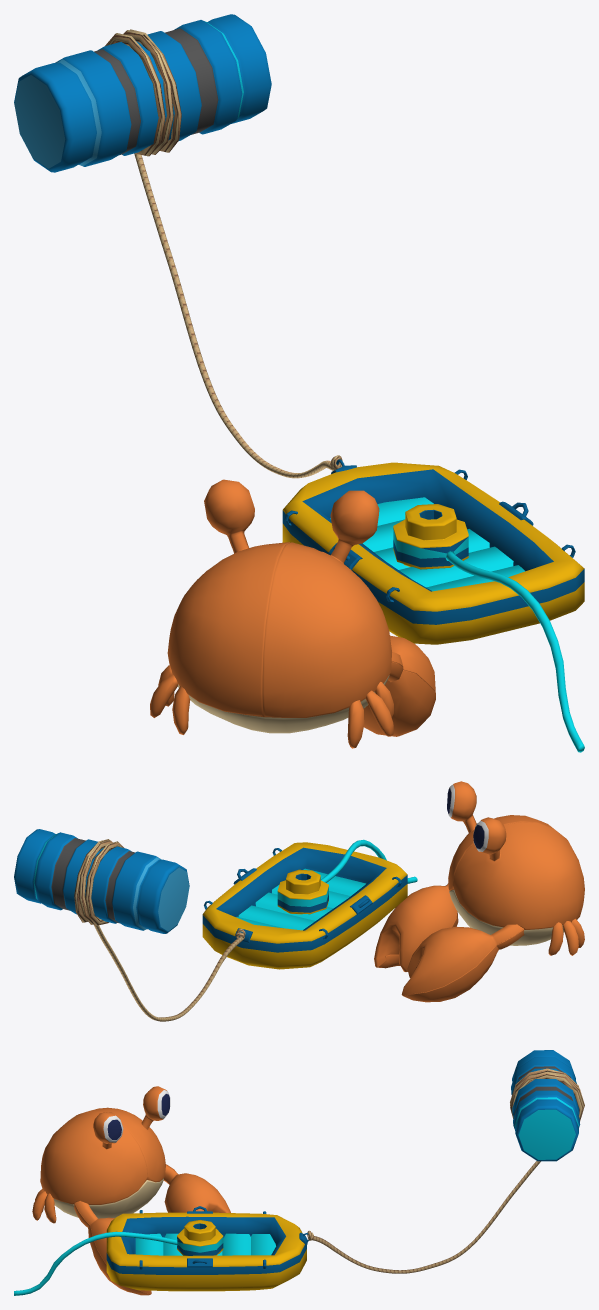
The model's file is partePosteriorSpawn.fbx.
3 views of the same model, one above another, from view 1: azimuth 30°, elevation 25°; view 2: azimuth 150°, elevation 25°; view 3: azimuth 270°, elevation 25° (orthographic). The views are drawn at different scales.
Parts seen in each view (by area): view 1: cr4by, barca, engancheAmarre; view 2: cr4by, barca, engancheAmarre; view 3: barca, cr4by, engancheAmarre.
Part boxes in pixels (x1,y1,x2,y2): cr4by: (150, 479, 435, 748); barca: (105, 29, 584, 752); engancheAmarre: (14, 14, 271, 172); cr4by: (374, 781, 584, 1002); barca: (74, 839, 417, 1021); engancheAmarre: (14, 829, 189, 933); barca: (14, 1068, 584, 1295); cr4by: (32, 1086, 230, 1295); engancheAmarre: (511, 1050, 580, 1161).
Size of the model in its own units: 1937 by 1704 by 3579.
Materials: 13 (1 with a texture image).
